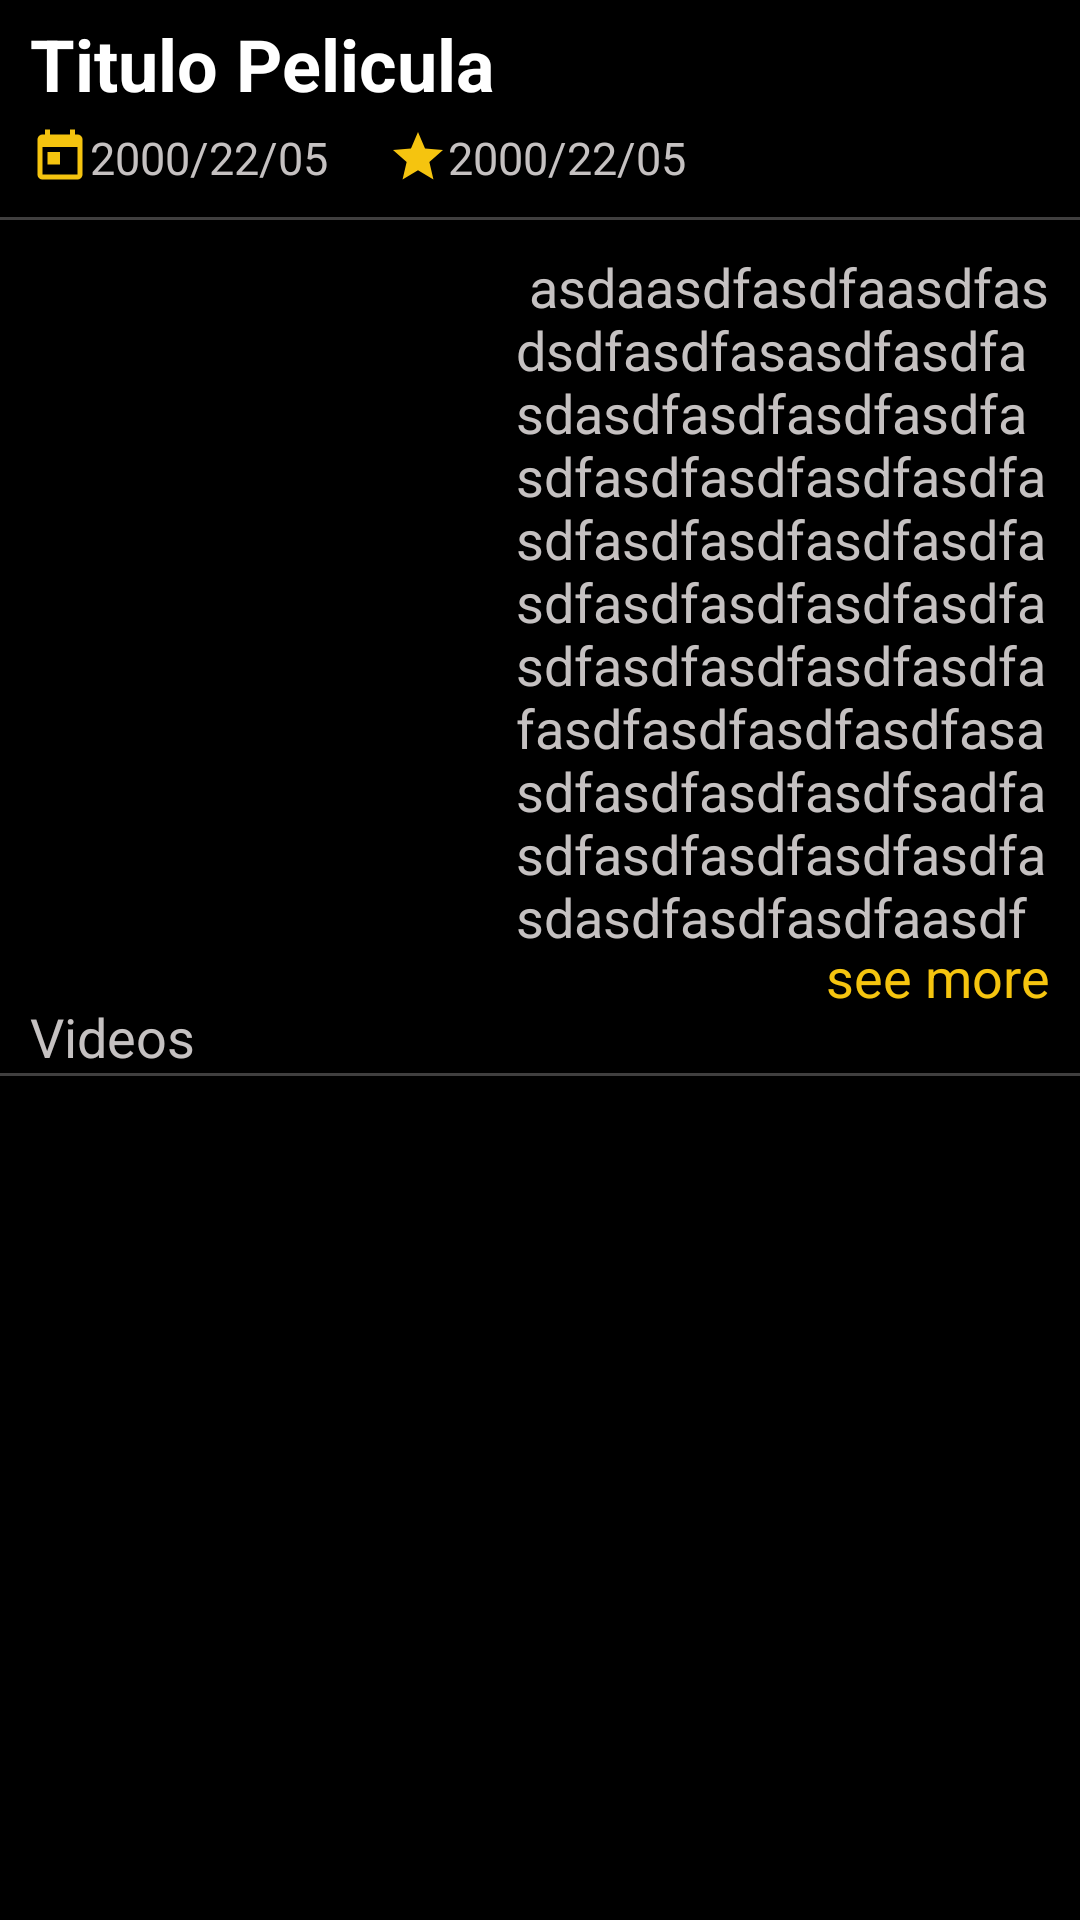

Screen size 1080*1920. Icon name, then its center in pixels as point (x, y):
date movie: point (60, 154)
star top rated: point (418, 156)
